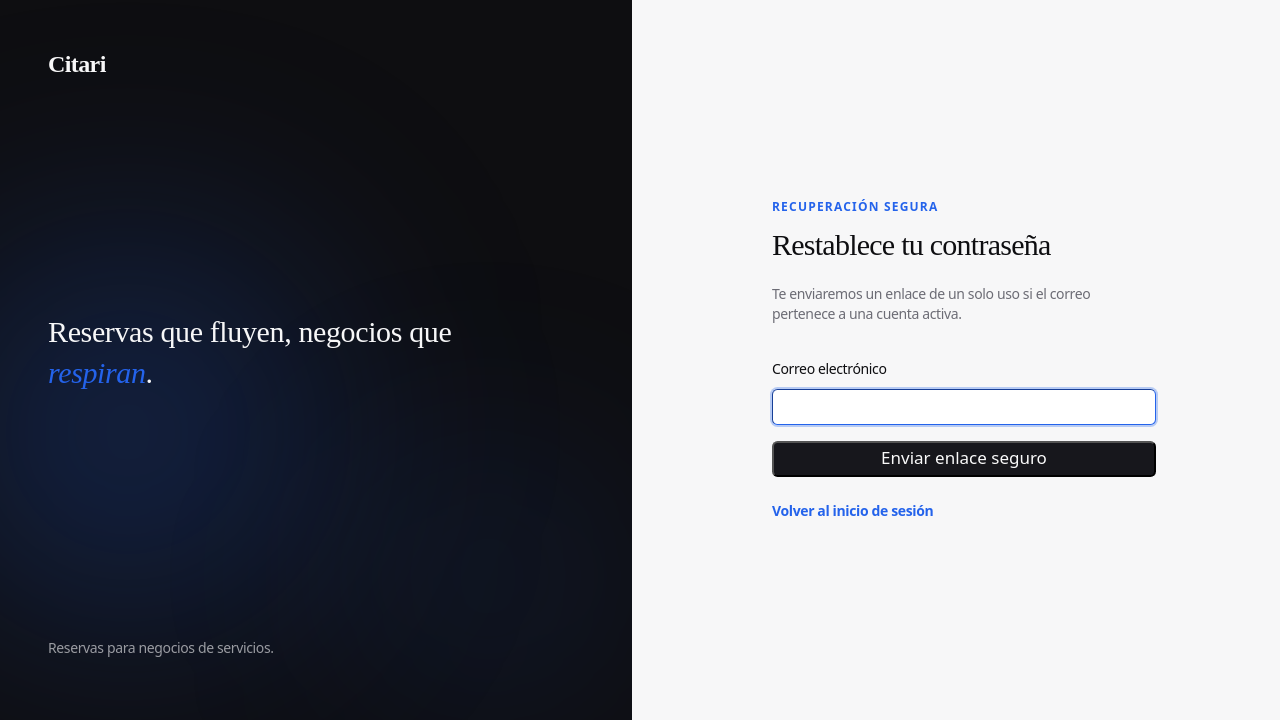
it: identity recovery pages › returns an anti-enumeration response for password reset requests
Type "owner@example.com" into the field labelled "Correo electrónico" at (964, 406), box [772, 388, 1156, 424]
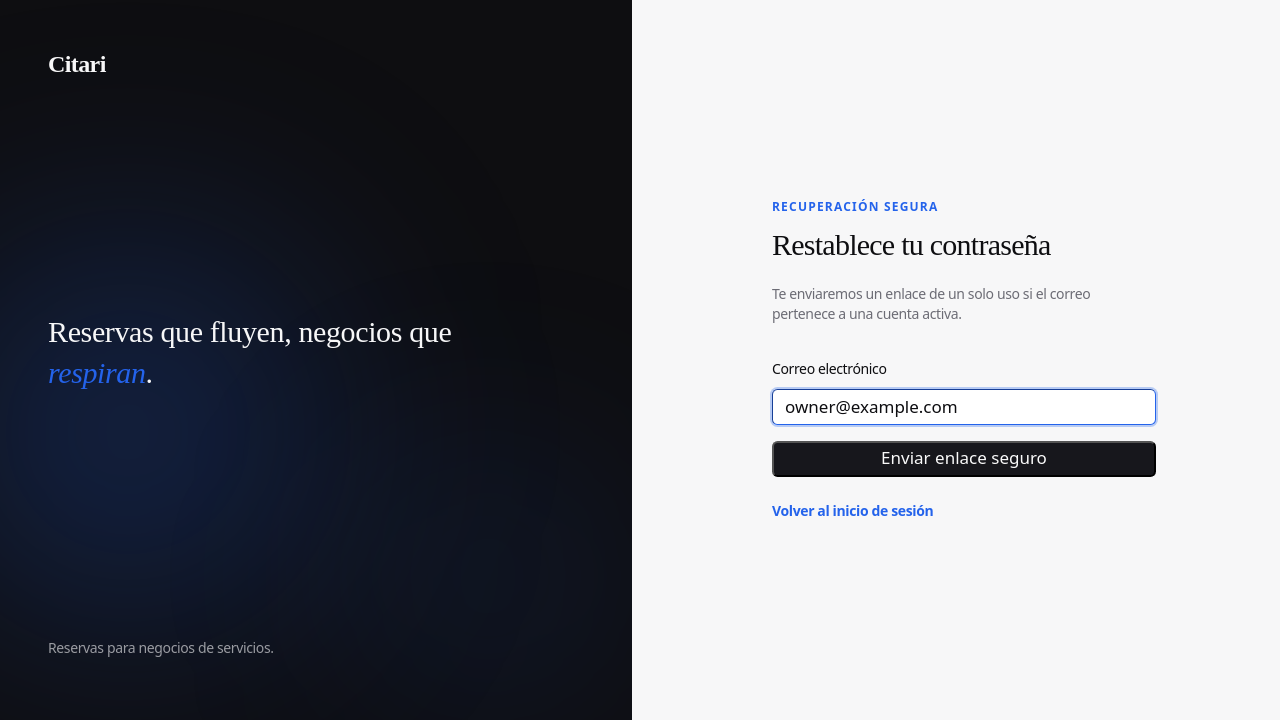
Click the button "Enviar enlace seguro" at (964, 458), box [772, 440, 1156, 476]
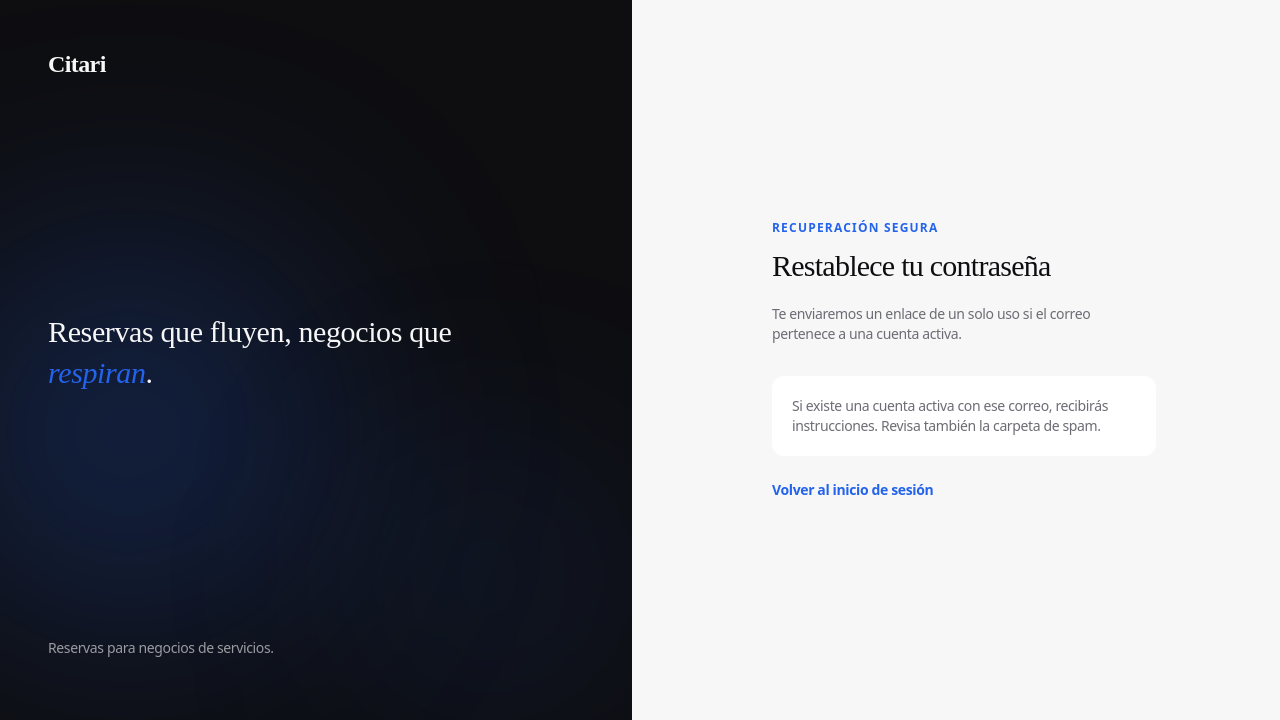
Result: the message shows "Si existe una cuenta activa" at [792, 396, 1108, 435]
